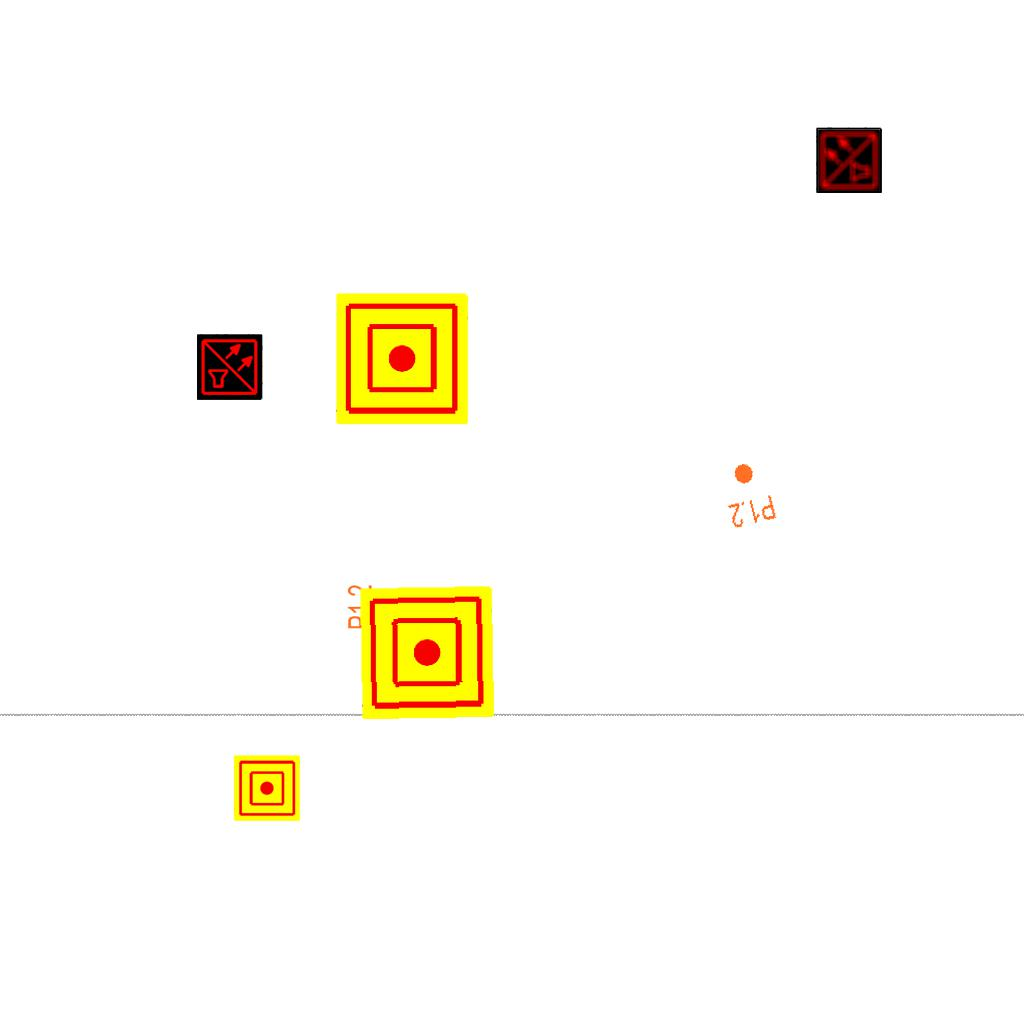Downlight_LED_Einbauleuchten_Flur: (717, 457, 779, 531), (346, 584, 410, 630)
NAM-Nichtautomatischer_Melder: (359, 585, 495, 721), (336, 293, 468, 425), (234, 755, 300, 821)
OKW_Multisensormelder_(Kombination_optischer_Rauch-Kahlenmonoxid_Waerme-Melder): (816, 127, 882, 193), (197, 334, 263, 400)
